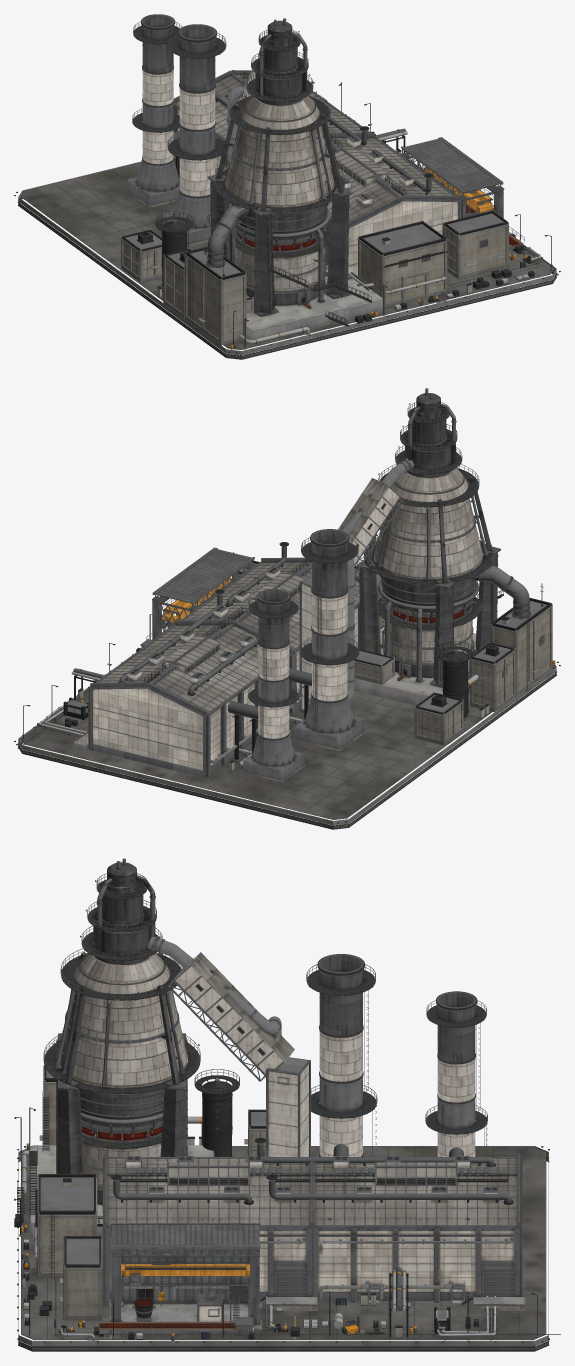
Rendered from steel_mill.lite.glb.
The picture shows the model from 3 angles, top to bottom: view 1: azimuth 30°, elevation 25°; view 2: azimuth 150°, elevation 25°; view 3: azimuth 270°, elevation 25°; orthographic projection. The views are drawn at different scales.
Parts seen in each view (by area): view 1: hull, parts_colony-blastFurnace, parts_colony-bandedStack, parts_colony-shedSegment, parts_colony-pourBay, parts_colony-skipGallery; view 2: hull, parts_colony-blastFurnace, parts_colony-shedSegment, parts_colony-bandedStack, parts_colony-skipGallery, parts_colony-pourBay; view 3: hull, parts_colony-shedSegment, parts_colony-blastFurnace, parts_colony-bandedStack, parts_colony-pourBay, parts_colony-skipGallery.
Boxes of the visible parts, bbox=[...] form: hull: bbox=[14, 72, 560, 359]; parts_colony-blastFurnace: bbox=[206, 18, 382, 339]; parts_colony-bandedStack: bbox=[127, 14, 226, 246]; parts_colony-shedSegment: bbox=[173, 70, 463, 276]; parts_colony-pourBay: bbox=[399, 137, 524, 249]; parts_colony-skipGallery: bbox=[206, 70, 255, 223]; hull: bbox=[14, 542, 560, 829]; parts_colony-blastFurnace: bbox=[354, 388, 531, 706]; parts_colony-shedSegment: bbox=[73, 557, 380, 778]; parts_colony-bandedStack: bbox=[242, 529, 365, 782]; parts_colony-skipGallery: bbox=[299, 458, 413, 713]; parts_colony-pourBay: bbox=[140, 547, 256, 648]; hull: bbox=[14, 1043, 560, 1351]; parts_colony-shedSegment: bbox=[102, 1153, 525, 1310]; parts_colony-blastFurnace: bbox=[30, 858, 214, 1238]; parts_colony-bandedStack: bbox=[306, 954, 487, 1156]; parts_colony-pourBay: bbox=[99, 1223, 261, 1337]; parts_colony-skipGallery: bbox=[148, 936, 310, 1156].
Size of the model in its own units: 81.55 by 67.27 by 94.85.
10 materials, 10 textured.
